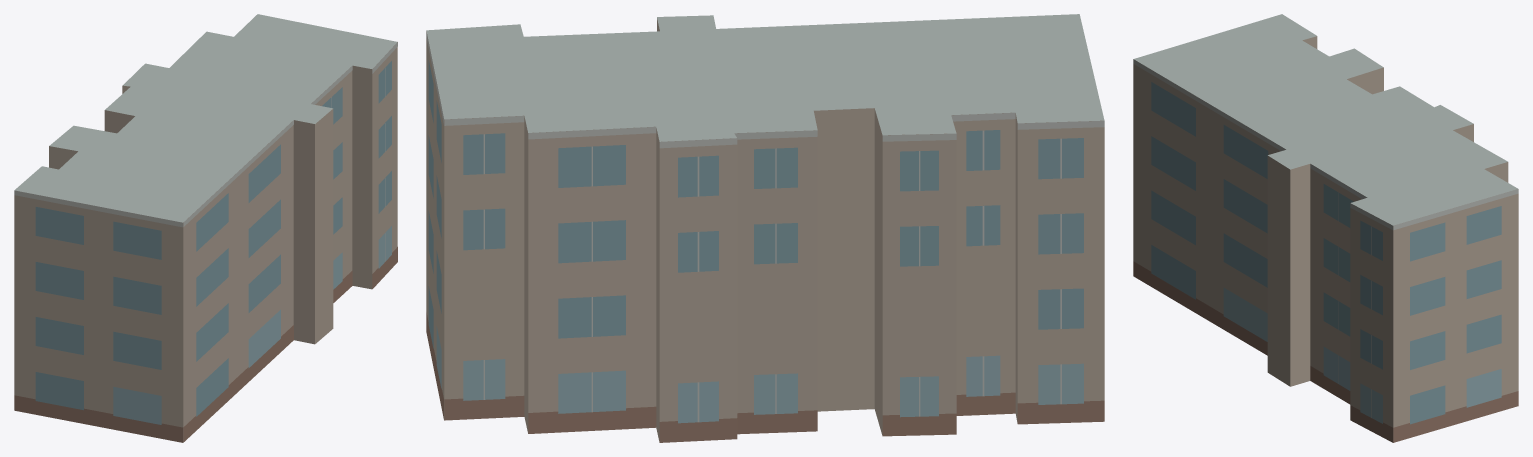
Rendered from survey-upis-32718616.glb.
The picture shows the model from 3 angles, left to right: view 1: azimuth 30°, elevation 25°; view 2: azimuth 150°, elevation 25°; view 3: azimuth 270°, elevation 25°; orthographic projection. The views are drawn at different scales.
Visible parts, largest first — view 1: survey-upis-32718616.tmp; view 2: survey-upis-32718616.tmp; view 3: survey-upis-32718616.tmp.
Boxes of the visible parts, x1,y1,x2,y2 form: survey-upis-32718616.tmp: (14, 14, 397, 442); survey-upis-32718616.tmp: (426, 14, 1104, 442); survey-upis-32718616.tmp: (1133, 14, 1518, 442).
Bounding box in the file's own units: 23.63 × 11.3 × 18.17.
